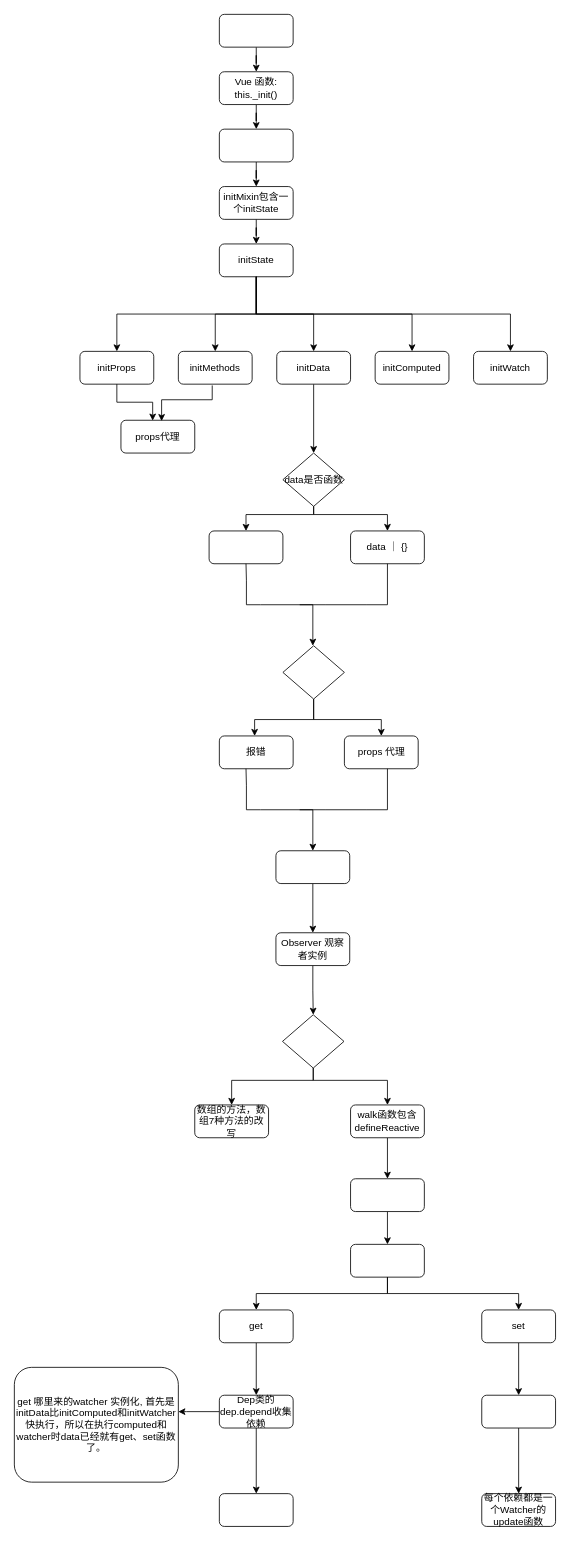
Image size: 570x1548. Some labels were removed from this diagram. Here are the shapes that lost their labels. From the top down, the centre of each, then its label:
[256,30]: new Vue
[256,145]: _init需要initMixin来初始化
[245,547]: 执行函数获取返回值
[313,672]: 获取props和methods 做判断不能重复
[312,867]: observe函数
[313,1041]: value是否数组？
[387,1195]: Object.defineProperty
[387,1260]: get 和 set 重写,可以按照案例走
[518,1411]: Dep类的dep.notify通知依赖
[256,1509]: 执行Watcher的addDep,就是监听者把这个依赖收集齐起来
